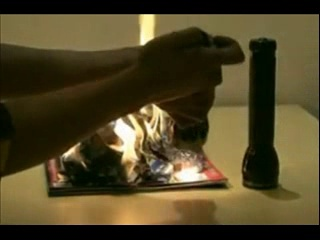fire: (117, 104, 165, 184), (136, 14, 154, 46)
